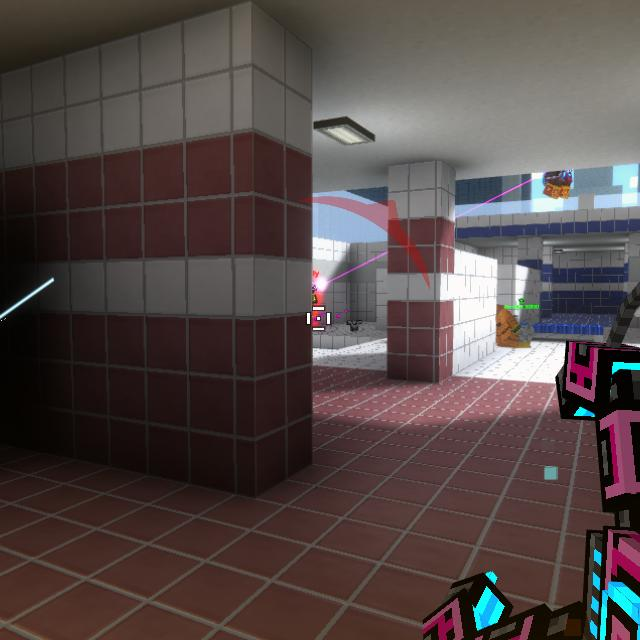Enemy: (313, 278, 320, 319)
